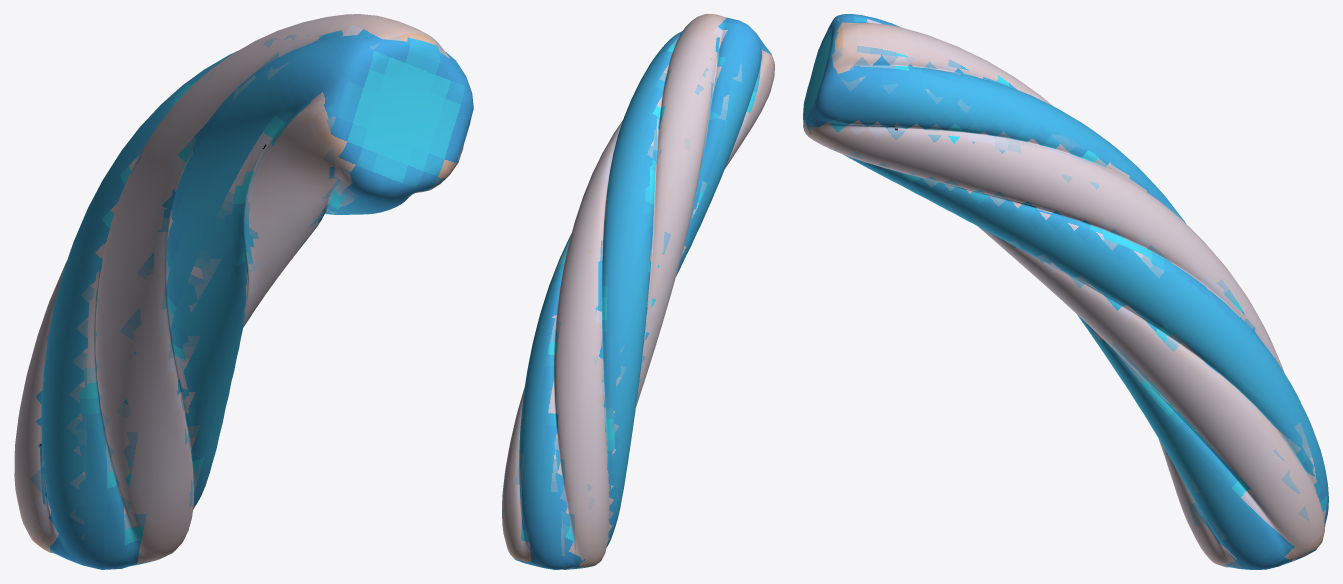
The model's file is twister_012.obj.
3 renders of one model, left to right at view 1: azimuth 30°, elevation 25°; view 2: azimuth 150°, elevation 25°; view 3: azimuth 270°, elevation 25°, orthographic. The views are drawn at different scales.
Parts seen in each view (by area): view 1: twister.012; view 2: twister.012; view 3: twister.012.
Boxes of the visible parts, bbox=[...] form: twister.012: bbox=[14, 14, 473, 569]; twister.012: bbox=[502, 14, 774, 569]; twister.012: bbox=[803, 14, 1328, 569].
Bounding box in the file's own units: 0.2159 × 0.8369 × 0.7505.
1 material, 1 textured.
